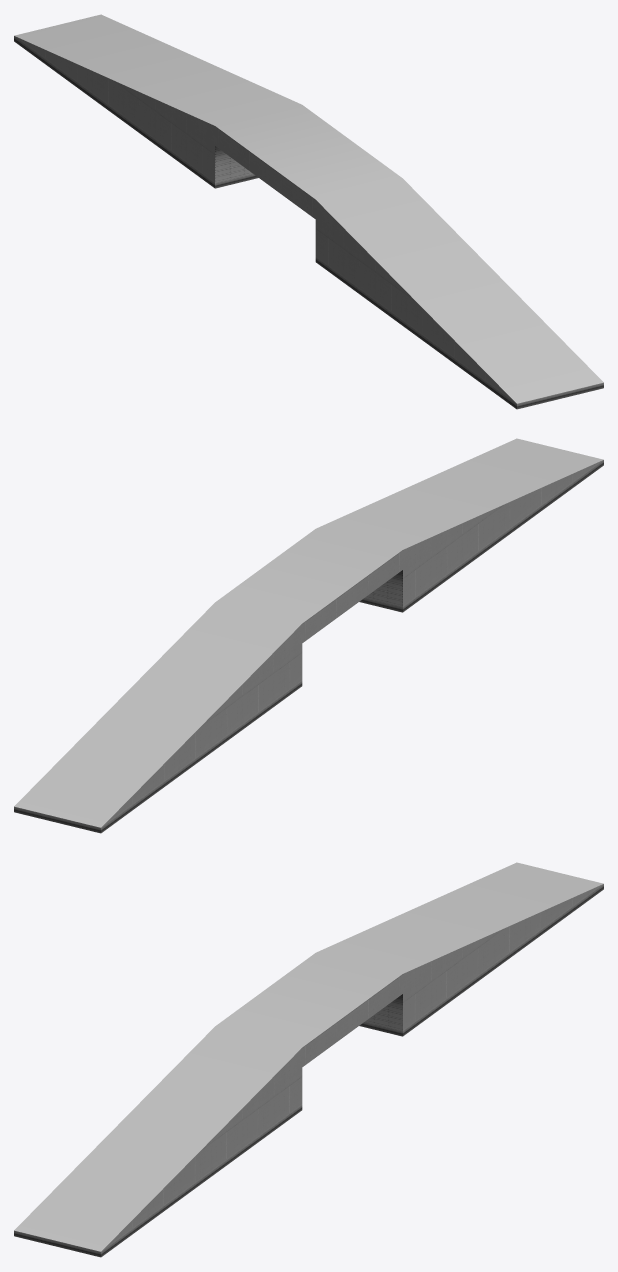
The model's file is TrackBridge01.fbx.
3 views of the same model, one above another, from view 1: azimuth 30°, elevation 25°; view 2: azimuth 150°, elevation 25°; view 3: azimuth 330°, elevation 25° (orthographic).
Parts seen in each view (by area): view 1: Empty_Mesh; view 2: Empty_Mesh; view 3: Empty_Mesh.
Part boxes in pixels (x1,y1,x2,y2): Empty_Mesh: (14, 14, 603, 409); Empty_Mesh: (14, 438, 603, 833); Empty_Mesh: (14, 862, 603, 1257).
Size of the model in its own units: 1600 by 1100 by 16000.
